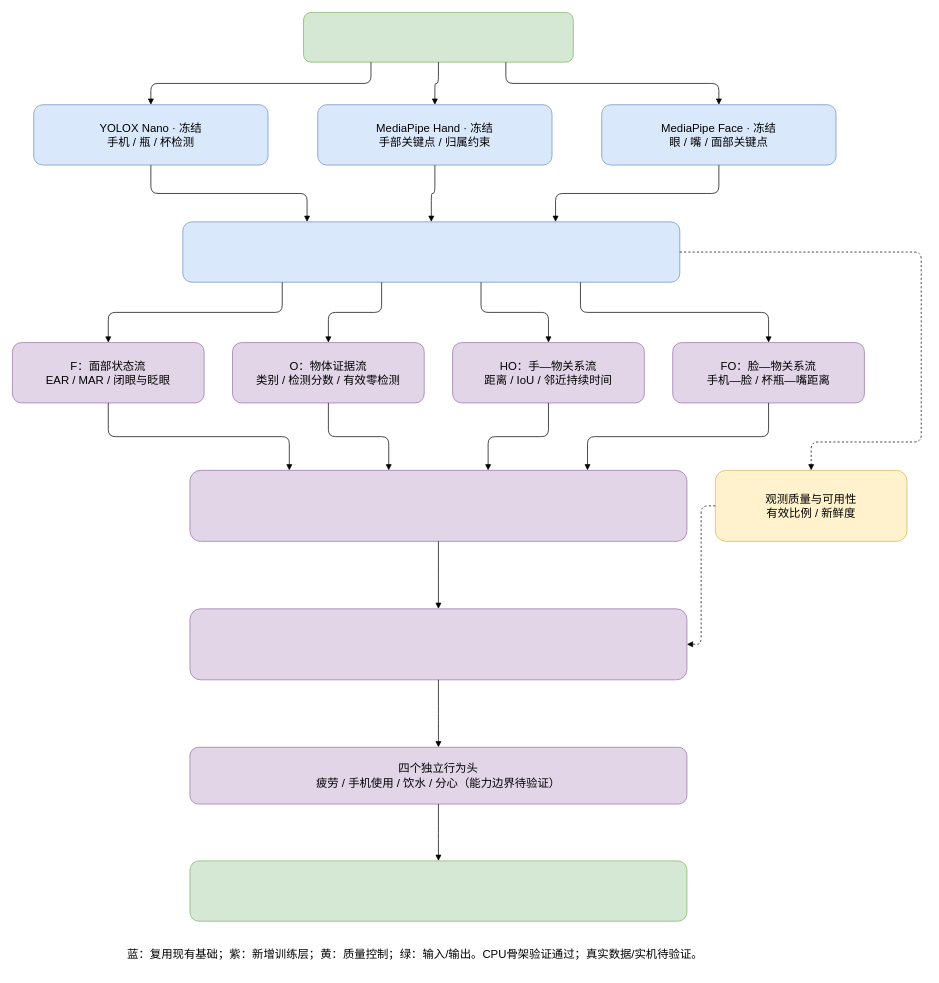
Image size: 939x983. Some labels were removed from this diagram. Each missing label, with the box of its shape:
任务级质量门控 × 4 有效流内学习权重；输入时序表示 + 观测质量摘要: (189, 608, 687, 680)
单摄像头 / 同一帧 采集时间戳 · 不拼接多视角: (303, 12, 573, 62)
可用性检查 → 后续告警策略 证据不足输出 unavailable；不把缺失判为 SAFE: (189, 860, 687, 921)
统一时空与有效性（扩展依赖掩码） 缺失、过期、归属不明 → 无效；不伪造正常值: (182, 221, 680, 282)
轻量投影 + 因果 TCN（四流共享权重） 各流独立编码；候选 T=100、D=16；输出 [B,4,16]: (189, 470, 687, 541)
